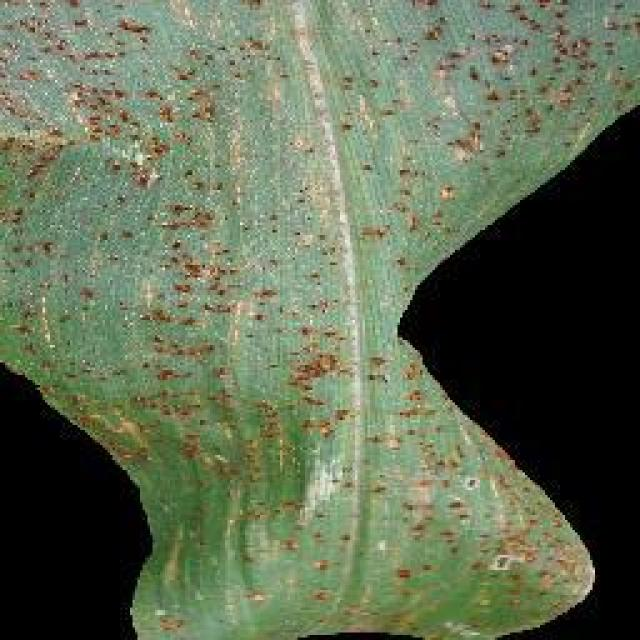Corn Common Rust: (32, 0, 588, 570)
